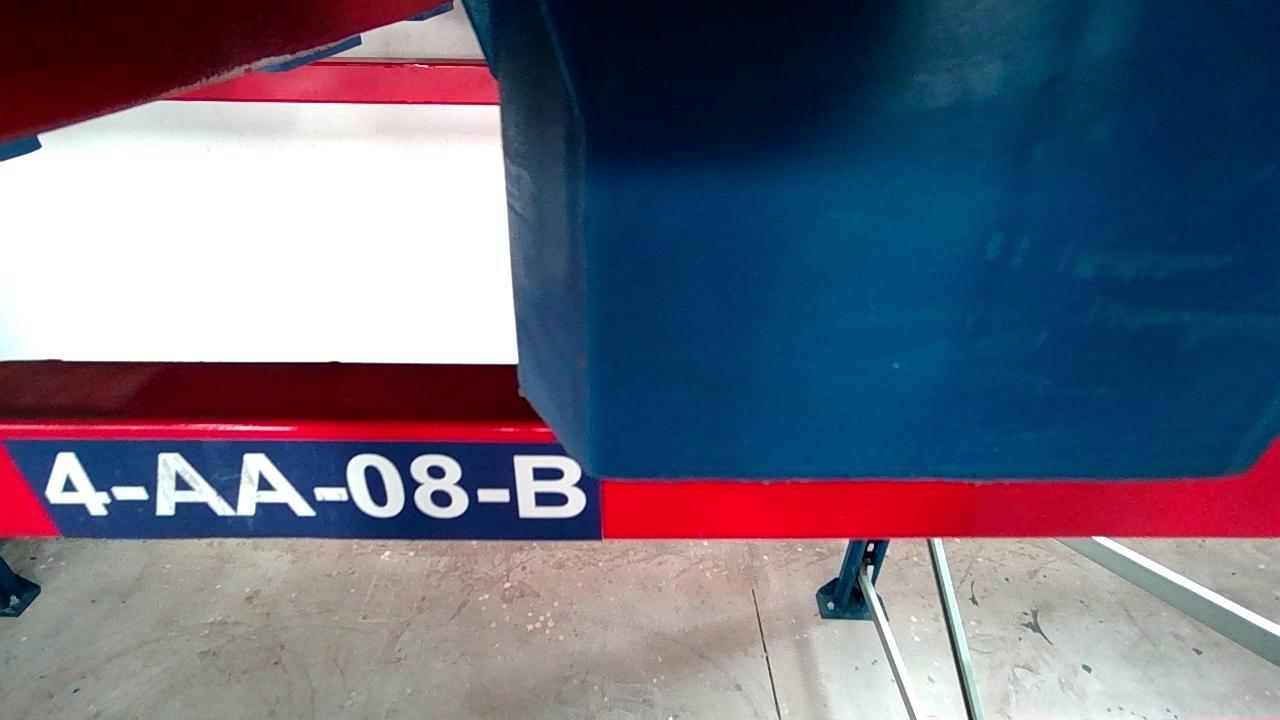h_rack: (4, 428, 1277, 538)
